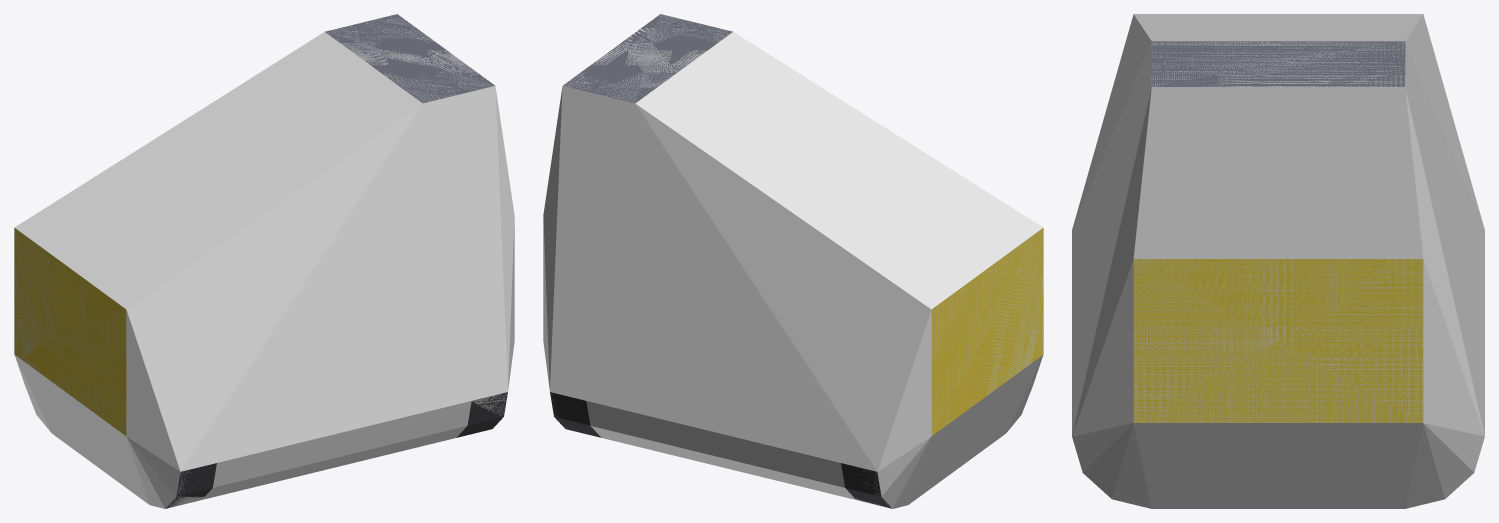
File: Prop_MaintenanceCart.glb
3 renders of one model, left to right at view 1: azimuth 30°, elevation 25°; view 2: azimuth 150°, elevation 25°; view 3: azimuth 270°, elevation 25°, orthographic. The views are drawn at different scales.
Visible parts, largest first — view 1: Prop_MaintenanceCart_COL, Prop_MaintenanceCart_LOD0; view 2: Prop_MaintenanceCart_COL, Prop_MaintenanceCart_LOD0; view 3: Prop_MaintenanceCart_COL, Prop_MaintenanceCart_LOD0.
Part boxes in pixels (<box>): Prop_MaintenanceCart_COL: <box>14,14,514,508</box>; Prop_MaintenanceCart_LOD0: <box>14,14,507,508</box>; Prop_MaintenanceCart_COL: <box>543,15,1043,508</box>; Prop_MaintenanceCart_LOD0: <box>550,14,1043,508</box>; Prop_MaintenanceCart_COL: <box>1072,14,1484,508</box>; Prop_MaintenanceCart_LOD0: <box>1133,41,1423,422</box>.
Size of what is drawn, in the model's own units: 1.6 by 1.32 by 1.14.
